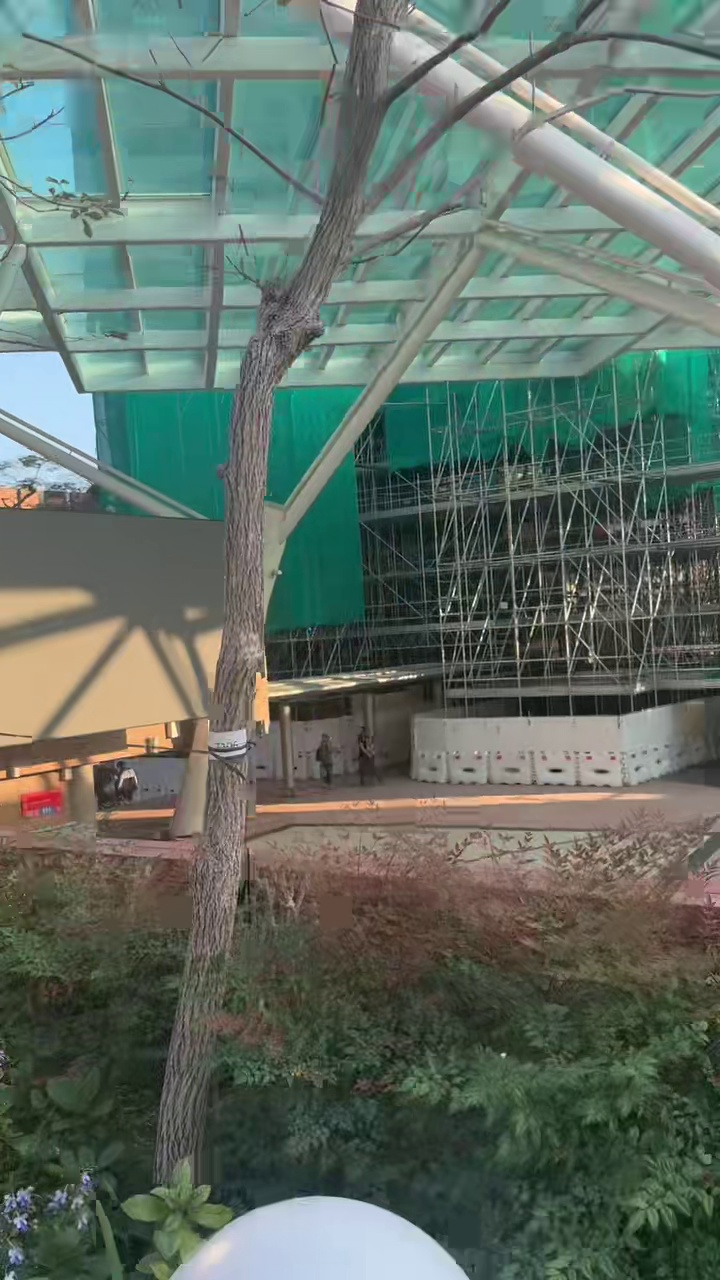Tabebuia chrysantha: (156, 0, 633, 1175)
